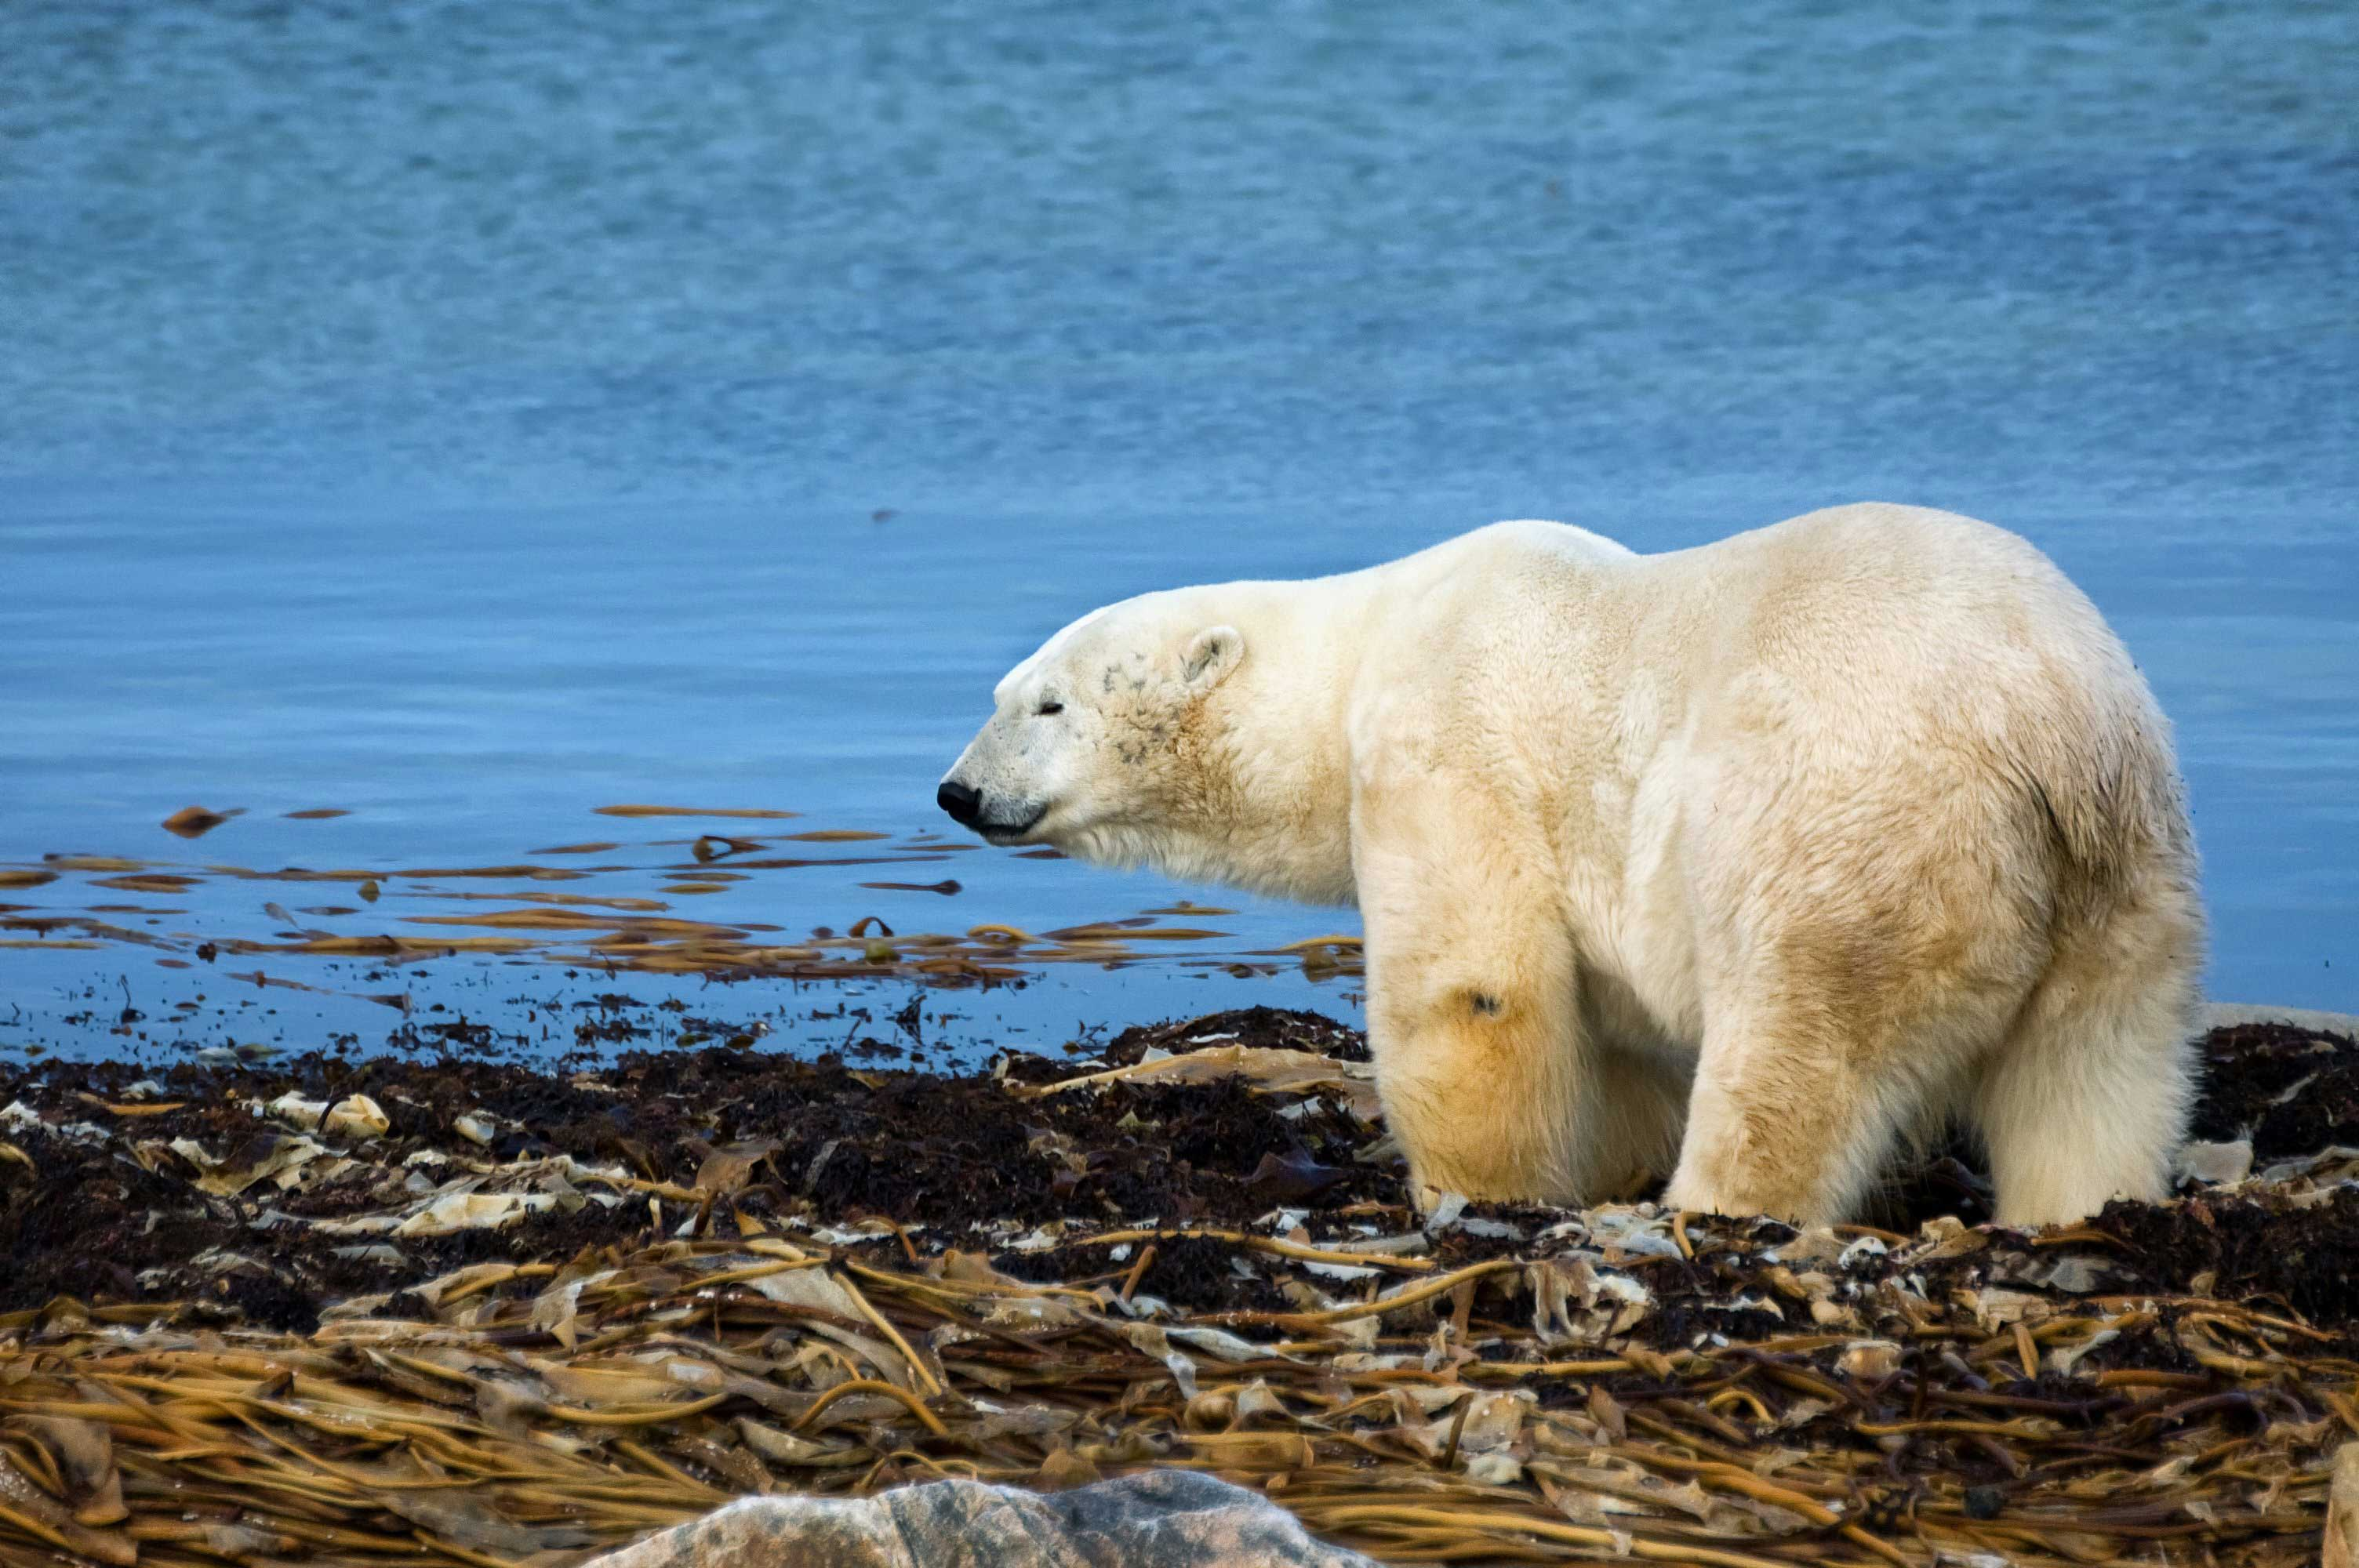Polar Bear: (870, 416, 2254, 1281)
